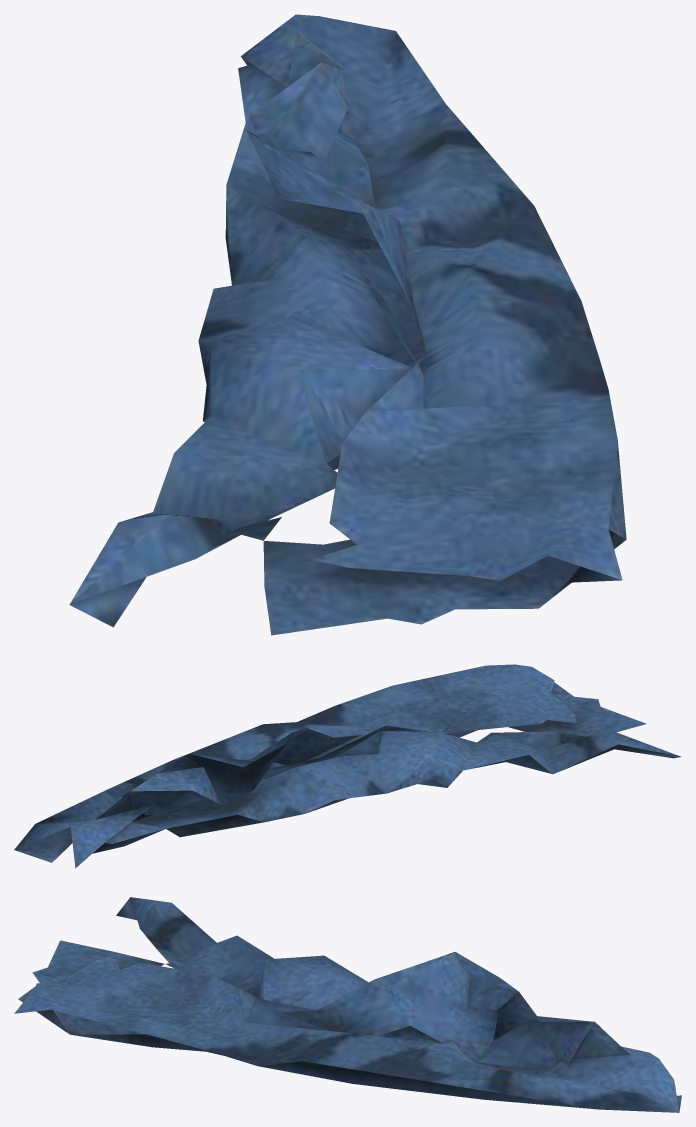
Rendered from rag_floor_rag_0_lod1_web.glb.
3 renders of one model, top to bottom at view 1: azimuth 30°, elevation 25°; view 2: azimuth 150°, elevation 25°; view 3: azimuth 270°, elevation 25°, orthographic. The views are drawn at different scales.
Visible parts, largest first — view 1: rag_floor_rag_0_Cloth; view 2: rag_floor_rag_0_Cloth; view 3: rag_floor_rag_0_Cloth.
Boxes of the visible parts, bbox=[...] form: rag_floor_rag_0_Cloth: bbox=[69, 14, 626, 635]; rag_floor_rag_0_Cloth: bbox=[14, 664, 681, 868]; rag_floor_rag_0_Cloth: bbox=[14, 897, 681, 1112].
Bounding box in the file's own units: 0.4434 × 0.0824 × 0.5904.
1 material, 1 textured.
